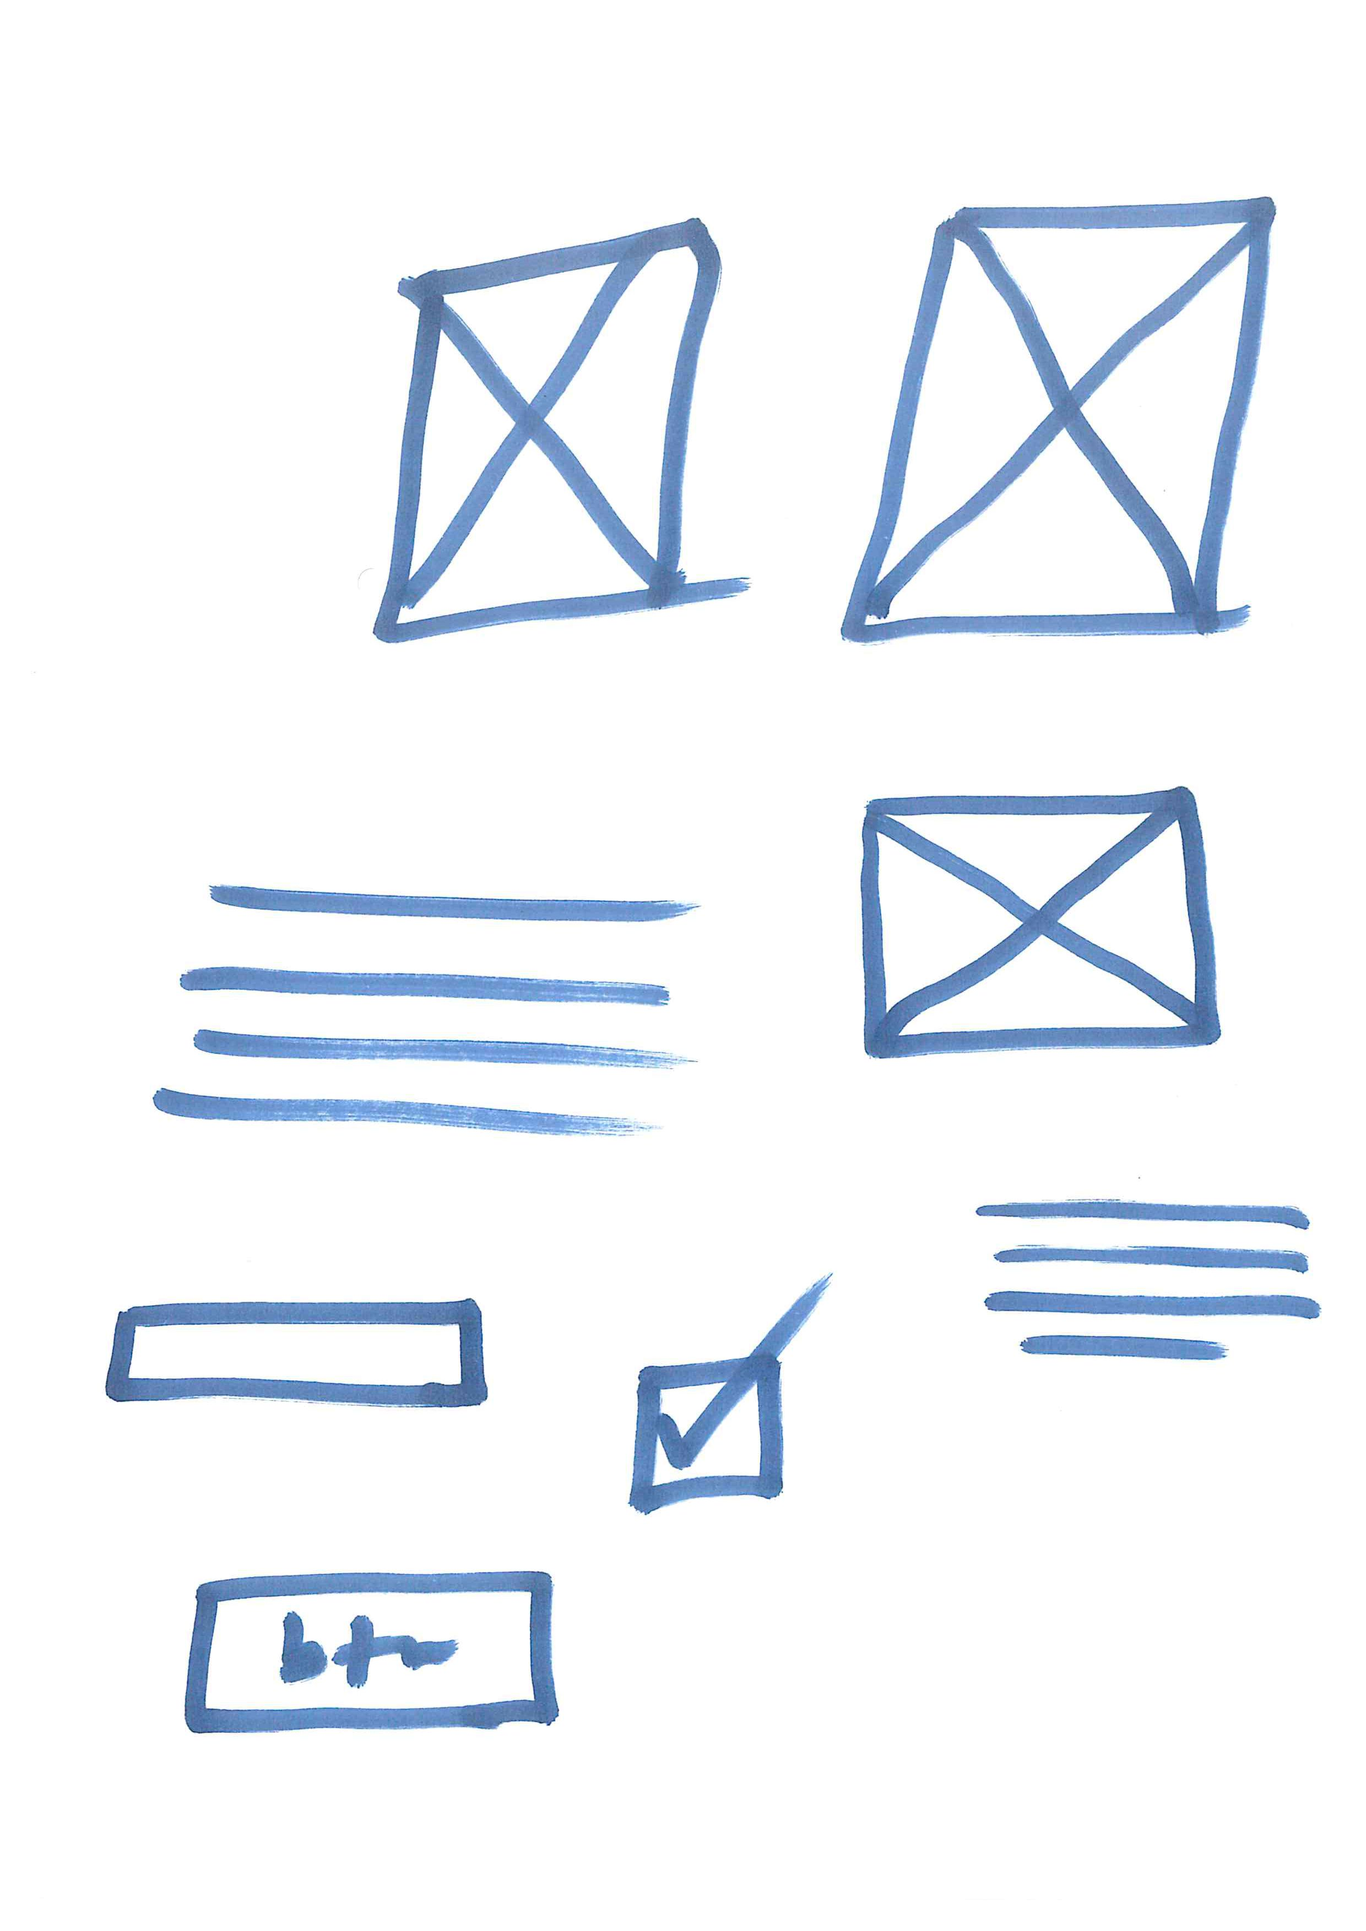Button: (174, 1561, 559, 1748)
Image: (832, 188, 1286, 648), (368, 211, 730, 642), (856, 785, 1218, 1068)
Paragraph: (157, 883, 695, 1144), (977, 1187, 1319, 1371)
